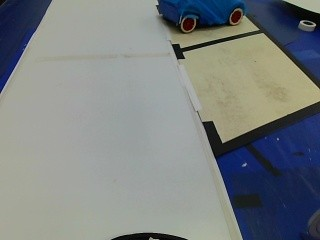car: (153, 0, 255, 33)
